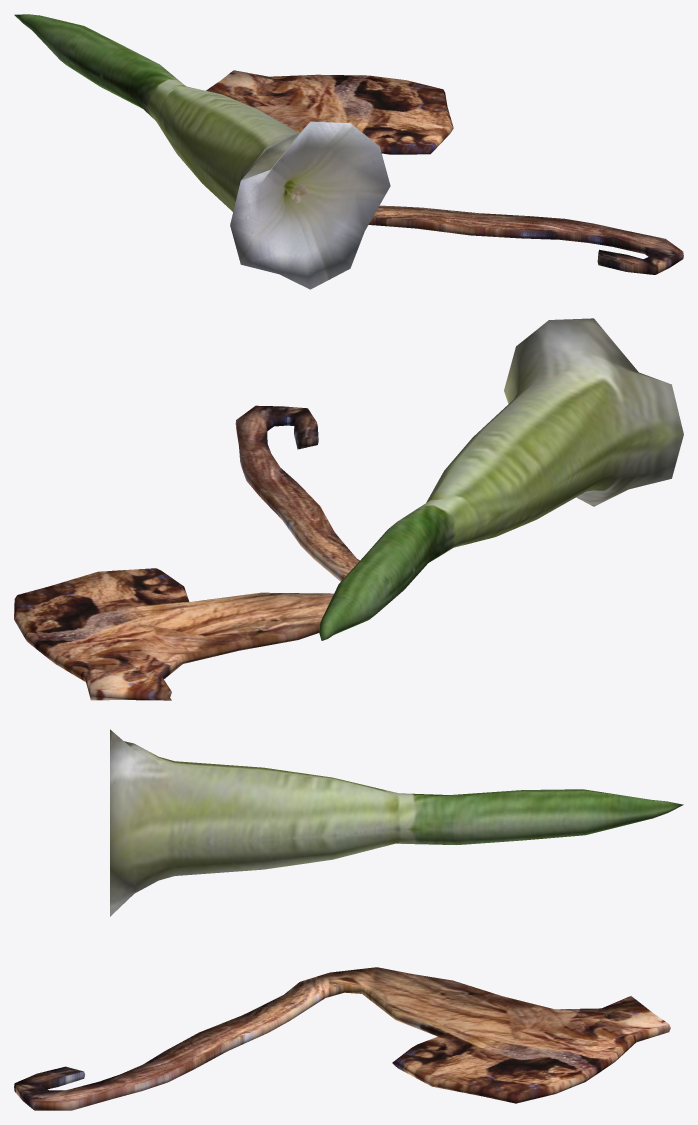
The model's file is yangjinhua.FBX.
3 views of the same model, one above another, from view 1: azimuth 30°, elevation 25°; view 2: azimuth 150°, elevation 25°; view 3: azimuth 270°, elevation 25° (orthographic). The views are drawn at different scales.
Parts seen in each view (by area): view 1: Cylinder001, Box002; view 2: Cylinder001, Box002; view 3: Cylinder001, Box002.
Boxes of the visible parts, bbox=[...] form: Cylinder001: bbox=[14, 14, 390, 289]; Box002: bbox=[206, 70, 683, 274]; Cylinder001: bbox=[319, 318, 683, 640]; Box002: bbox=[14, 405, 359, 700]; Cylinder001: bbox=[110, 729, 683, 916]; Box002: bbox=[14, 967, 670, 1110].
Size of the model in its own units: 0.3227 by 0.1429 by 0.4205.
Materials: 1 (1 with a texture image).
